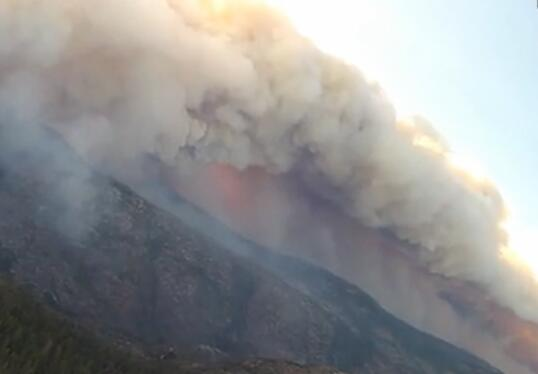smoke: (2, 0, 535, 320)
